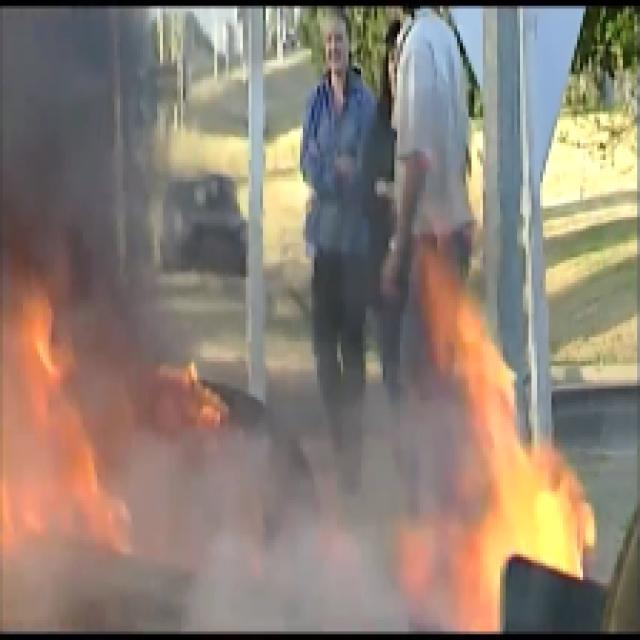Fire: (0, 243, 640, 606)
Smoke: (0, 17, 203, 283)
